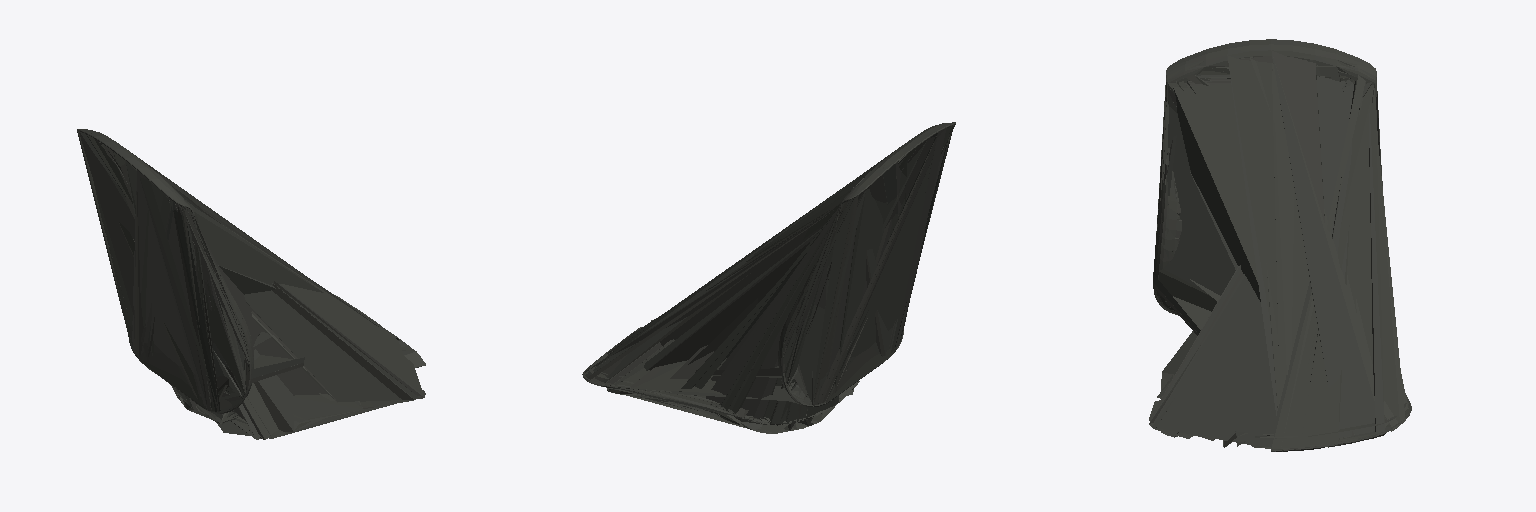
File: HMI_Celle_Chair_3D.obj
3 renders of one model, left to right at view 1: azimuth 30°, elevation 25°; view 2: azimuth 150°, elevation 25°; view 3: azimuth 270°, elevation 25°, orthographic.
Parts seen in each view (by area): view 1: HSldSeat, HBase, HArm, HSldBk, HLumbar, HTiltCvr, HBkSppt, HCelBk; view 2: HSldSeat, HBase, HLumbar, HCelSeat, HSldBk, HTiltCvr, HCelBk, HArm, HBkSppt; view 3: HSldSeat, HSldBk, HBase, HBkSppt.
Part boxes in pixels (x1,y1,x2,y2): HSldSeat: (79,133,425,439); HBase: (79,131,425,439); HArm: (131,165,249,411); HSldBk: (77,129,253,413); HLumbar: (77,130,250,411); HTiltCvr: (78,132,220,409); HBkSppt: (78,132,249,410); HCelBk: (77,131,200,405); HSldSeat: (582,124,955,433); HBase: (583,123,952,433); HLumbar: (780,192,904,405); HCelSeat: (785,123,951,401); HSldBk: (778,122,955,406); HTiltCvr: (783,128,953,402); HCelBk: (785,122,955,404); HArm: (783,124,953,403); HBkSppt: (782,126,949,404); HSldSeat: (1149,50,1411,451); HSldBk: (1153,39,1376,314); HBase: (1149,49,1410,451); HBkSppt: (1155,67,1347,261).
Bounding box in the file's own units: 2.27 × 2.14 × 1.76.